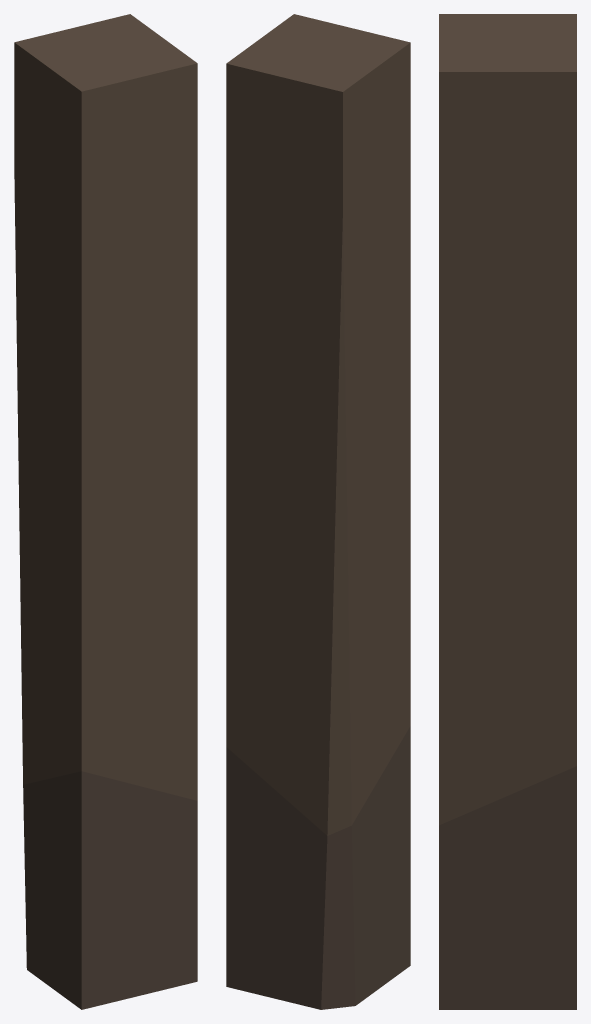
File: SM_Props_Farm_Fence_Square_T1_Post.fbx
3 renders of one model, left to right at view 1: azimuth 30°, elevation 25°; view 2: azimuth 150°, elevation 25°; view 3: azimuth 270°, elevation 25°, orthographic. The views are drawn at different scales.
Parts seen in each view (by area): view 1: SM_Props_Farm_Fence_Square_T1_Post; view 2: SM_Props_Farm_Fence_Square_T1_Post; view 3: SM_Props_Farm_Fence_Square_T1_Post.
Part boxes in pixels (left/top/right/bottom): SM_Props_Farm_Fence_Square_T1_Post: left=14, top=14, right=197, bottom=1009; SM_Props_Farm_Fence_Square_T1_Post: left=226, top=14, right=410, bottom=1009; SM_Props_Farm_Fence_Square_T1_Post: left=439, top=14, right=576, bottom=1009.
Size of the model in its own units: 11.37 by 86 by 11.44.
